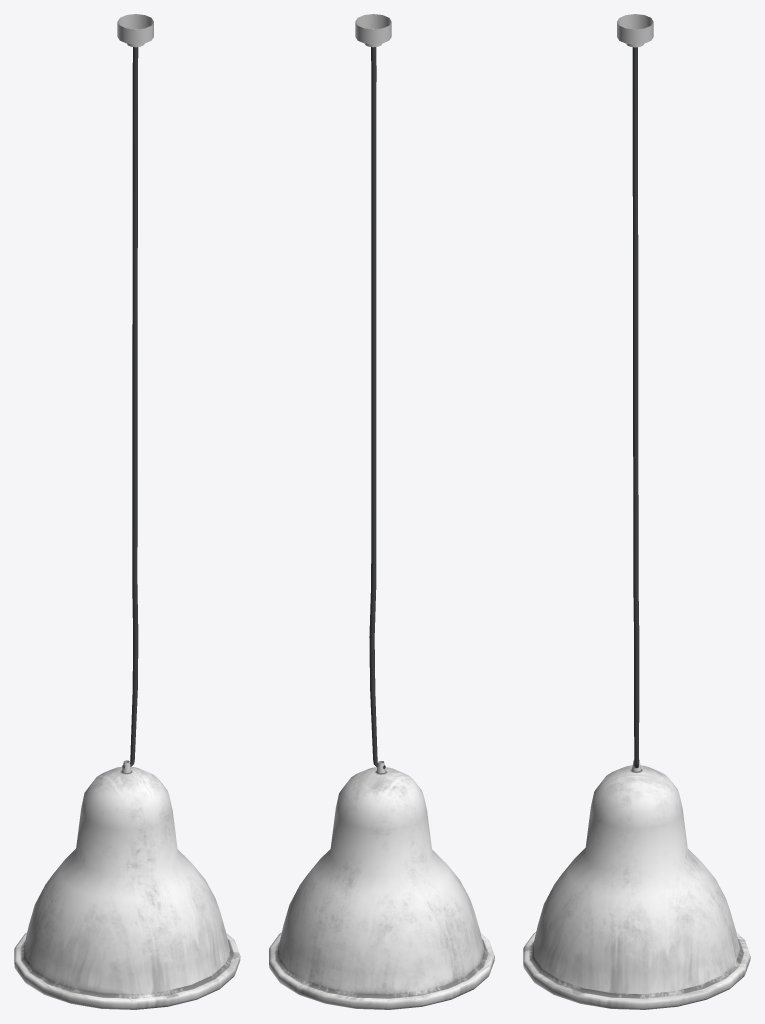
Rendered from Lamp.fbx.
3 views of the same model, side by side, from view 1: azimuth 30°, elevation 25°; view 2: azimuth 150°, elevation 25°; view 3: azimuth 270°, elevation 25° (orthographic).
Visible parts, largest first — view 1: SM_Light_bulb, SM_Light; view 2: SM_Light_bulb, SM_Light; view 3: SM_Light_bulb, SM_Light.
Boxes of the visible parts, x1=… form: SM_Light_bulb: x1=14, y1=760, x2=240, y2=1009; SM_Light: x1=117, y1=14, x2=153, y2=768; SM_Light_bulb: x1=269, y1=761, x2=494, y2=1009; SM_Light: x1=355, y1=14, x2=391, y2=768; SM_Light_bulb: x1=523, y1=760, x2=750, y2=1009; SM_Light: x1=617, y1=14, x2=653, y2=768.
Bounding box in the file's own units: 76.03 × 75.81 × 348.
